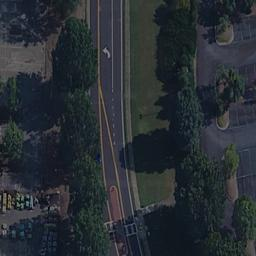Crosswalk: (123, 222, 138, 238), (104, 216, 114, 235)
Double Solid Yellow Line: (95, 86, 106, 169), (109, 149, 121, 187), (94, 3, 102, 43)
Left Turn Arrow: (100, 43, 111, 61)
Solid White Line: (109, 6, 114, 89)
White Dashed Line: (108, 88, 117, 143)
